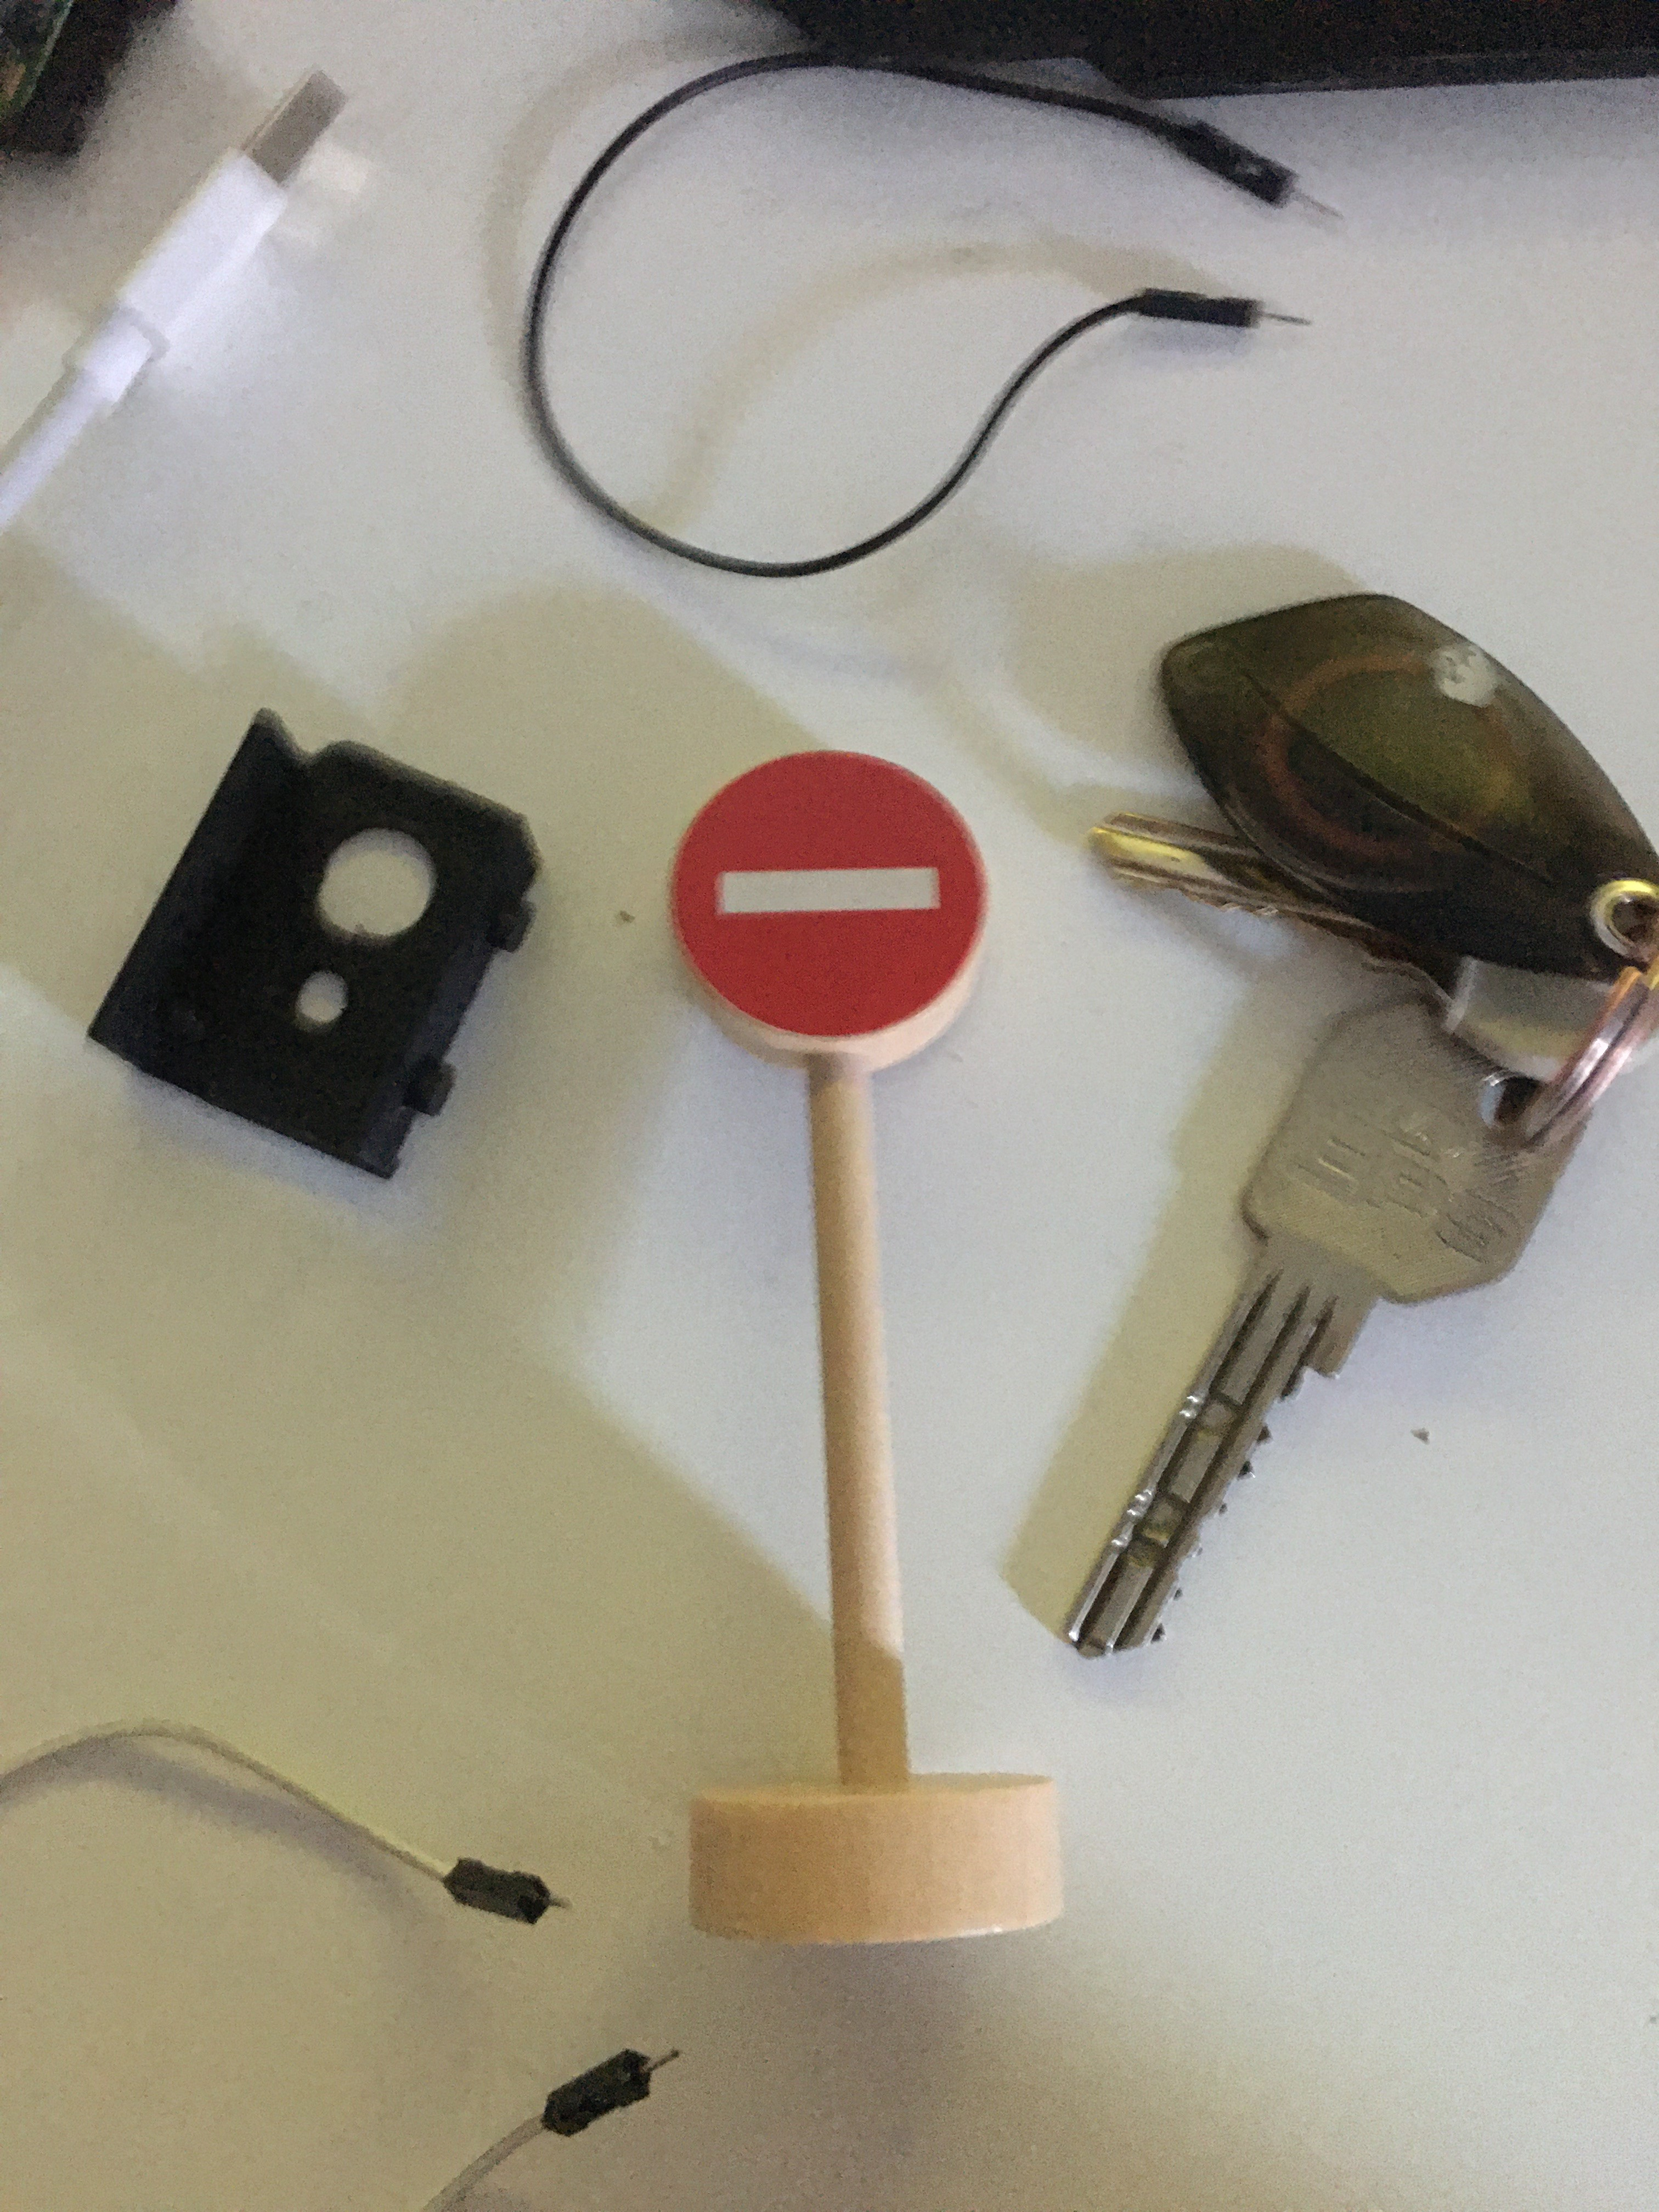Traffic_Sign_No_Entry: (667, 749, 986, 1035)
